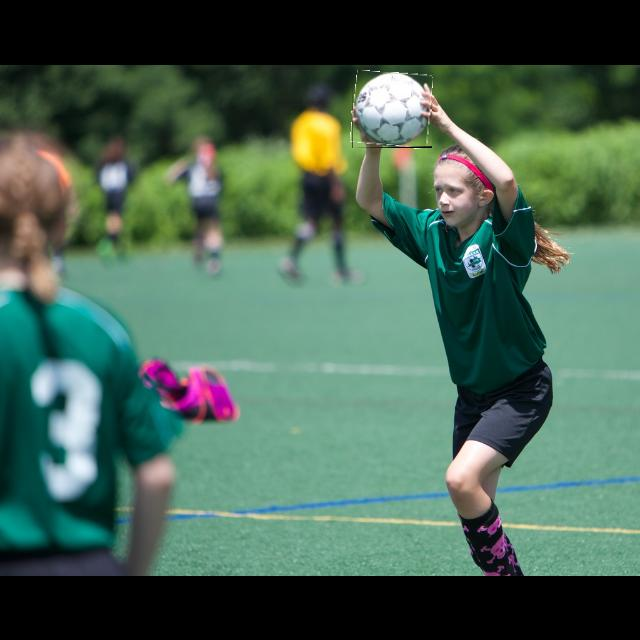Football: (352, 72, 432, 148)
